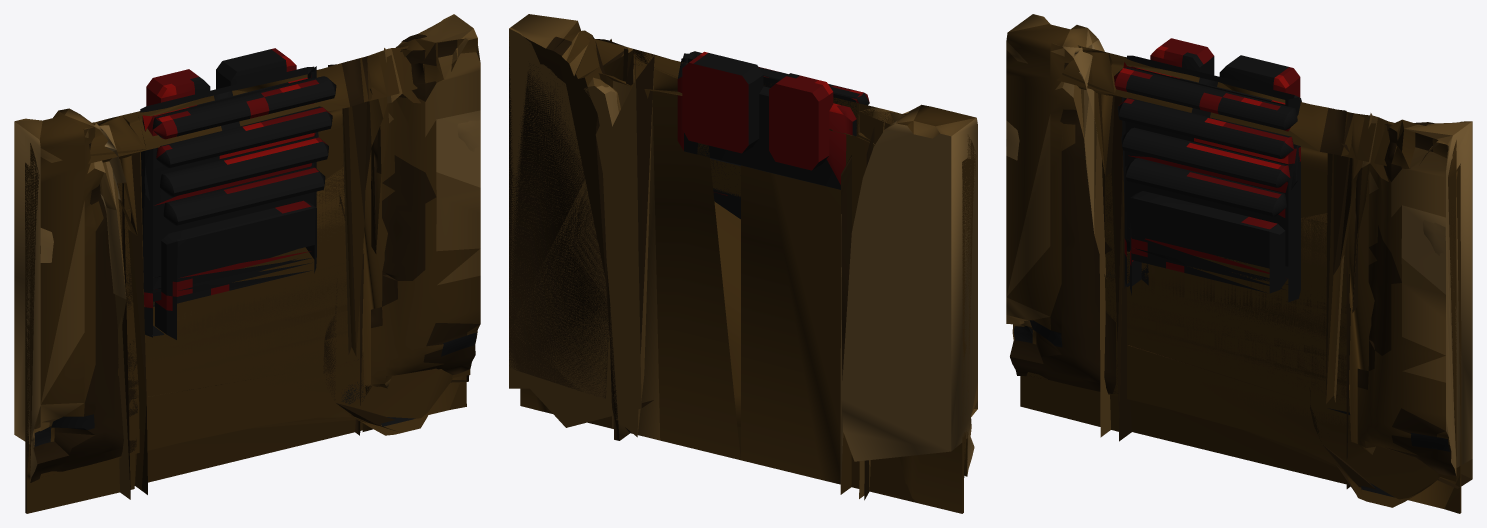
The model's file is ixm_wall_slot_low_damaged.glb.
3 views of the same model, side by side, from view 1: azimuth 30°, elevation 25°; view 2: azimuth 150°, elevation 25°; view 3: azimuth 330°, elevation 25° (orthographic).
Parts seen in each view (by area): view 1: ixm_wall_slot_low_damaged_rock_back_slot, ixm_wall_slot_low_damaged_rock_end_l, ixm_wall_slot_low_damaged_rock_rock, ixm_wall_slot_low_damaged_rock_slot, ixm_wall_slot_low_damaged_foot, ixm_wall_slot_low_damaged_well, ixm_wall_slot_low_damaged_rock_back_end_l, ixm_wall_slot_low_damaged_grille0, ixm_wall_slot_low_damaged_grille1, ixm_wall_slot_low_damaged_grille2, ixm_wall_slot_low_damaged_rock_back_rock, ixm_wall_slot_low_damaged_grille3 (+2 smaller); view 2: ixm_wall_slot_low_damaged_rock_back_slot, ixm_wall_slot_low_damaged_rock_end_l, ixm_wall_slot_low_damaged_rock_slot, ixm_wall_slot_low_damaged_rock_rock, ixm_wall_slot_low_damaged_bar_r, ixm_wall_slot_low_damaged_well, ixm_wall_slot_low_damaged_rock_back_end_l, ixm_wall_slot_low_damaged_bar_l, ixm_wall_slot_low_damaged_rock_back_rock, ixm_wall_slot_low_damaged_grille0; view 3: ixm_wall_slot_low_damaged_rock_back_slot, ixm_wall_slot_low_damaged_rock_end_l, ixm_wall_slot_low_damaged_rock_rock, ixm_wall_slot_low_damaged_rock_slot, ixm_wall_slot_low_damaged_foot, ixm_wall_slot_low_damaged_well, ixm_wall_slot_low_damaged_rock_back_rock, ixm_wall_slot_low_damaged_rock_back_end_l, ixm_wall_slot_low_damaged_grille0, ixm_wall_slot_low_damaged_grille1, ixm_wall_slot_low_damaged_grille2, ixm_wall_slot_low_damaged_grille3 (+2 smaller).
Part boxes in pixels (x1,y1,x2,y2): ixm_wall_slot_low_damaged_rock_back_slot: (25, 48, 466, 486); ixm_wall_slot_low_damaged_rock_end_l: (14, 108, 147, 494); ixm_wall_slot_low_damaged_rock_rock: (355, 15, 480, 435); ixm_wall_slot_low_damaged_rock_slot: (34, 14, 480, 499); ixm_wall_slot_low_damaged_foot: (155, 200, 316, 339); ixm_wall_slot_low_damaged_well: (140, 66, 318, 337); ixm_wall_slot_low_damaged_rock_back_end_l: (25, 115, 146, 513); ixm_wall_slot_low_damaged_grille0: (152, 76, 336, 139); ixm_wall_slot_low_damaged_grille1: (156, 106, 332, 167); ixm_wall_slot_low_damaged_grille2: (160, 136, 328, 196); ixm_wall_slot_low_damaged_rock_back_rock: (362, 46, 470, 431); ixm_wall_slot_low_damaged_grille3: (163, 167, 325, 225); ixm_wall_slot_low_damaged_rock_back_slot: (520, 48, 976, 502); ixm_wall_slot_low_damaged_rock_end_l: (840, 104, 977, 494); ixm_wall_slot_low_damaged_rock_slot: (509, 27, 977, 500); ixm_wall_slot_low_damaged_rock_rock: (509, 14, 635, 440); ixm_wall_slot_low_damaged_bar_r: (682, 51, 763, 153); ixm_wall_slot_low_damaged_well: (677, 53, 858, 216); ixm_wall_slot_low_damaged_rock_back_end_l: (857, 104, 974, 513); ixm_wall_slot_low_damaged_bar_l: (769, 73, 833, 170); ixm_wall_slot_low_damaged_rock_back_rock: (586, 37, 634, 85); ixm_wall_slot_low_damaged_grille0: (690, 51, 869, 105); ixm_wall_slot_low_damaged_rock_back_slot: (1027, 46, 1461, 513); ixm_wall_slot_low_damaged_rock_end_l: (1006, 14, 1131, 441); ixm_wall_slot_low_damaged_rock_rock: (1346, 119, 1472, 488); ixm_wall_slot_low_damaged_rock_slot: (1006, 45, 1472, 497); ixm_wall_slot_low_damaged_foot: (1129, 191, 1288, 295); ixm_wall_slot_low_damaged_well: (1122, 55, 1301, 302); ixm_wall_slot_low_damaged_rock_back_rock: (1341, 113, 1460, 508); ixm_wall_slot_low_damaged_rock_back_end_l: (1020, 53, 1123, 431); ixm_wall_slot_low_damaged_grille0: (1114, 67, 1297, 130); ixm_wall_slot_low_damaged_grille1: (1117, 98, 1293, 158); ixm_wall_slot_low_damaged_grille2: (1121, 127, 1290, 187); ixm_wall_slot_low_damaged_grille3: (1125, 158, 1286, 216).
Size of the model in its own units: 24 by 20.5 by 3.35.
